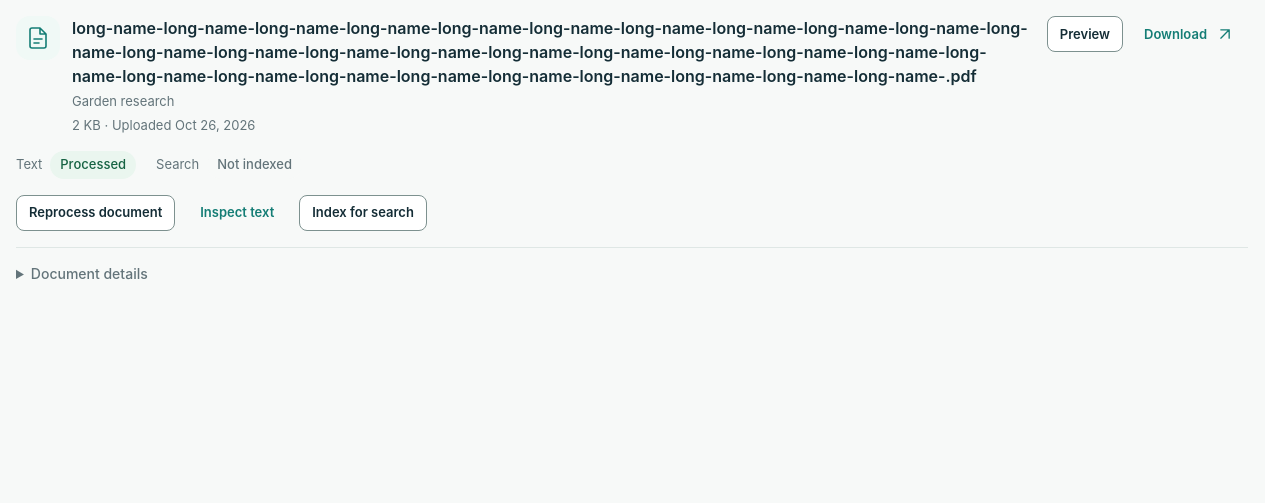
Test: retains full names and hides technical metadata behind a native disclosure
Step 1. Click the heading "Document details" → [89, 273], box [31,264,148,282]
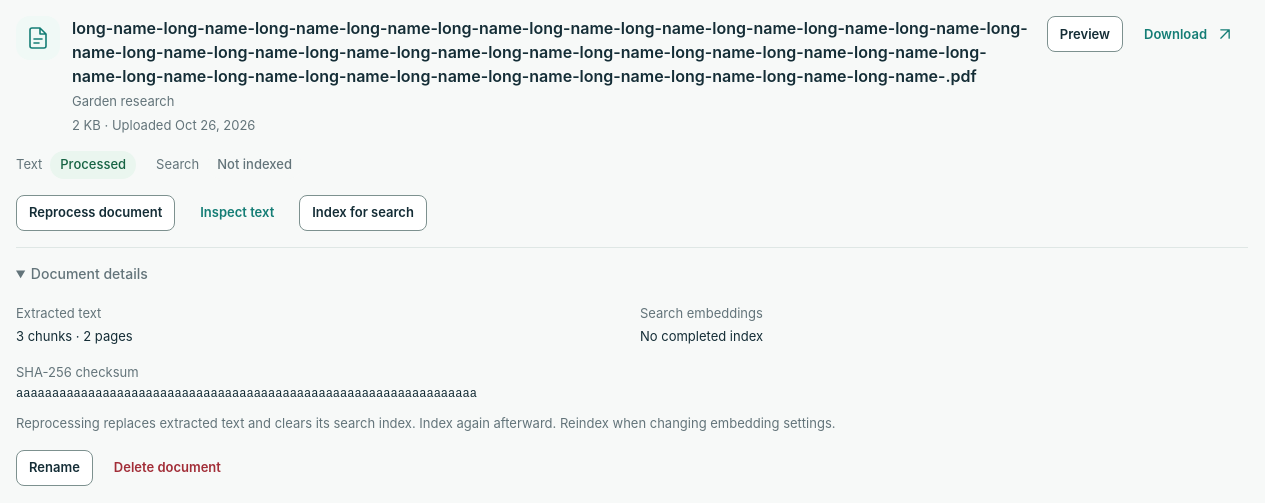
expect the text "3 chunks · 2 pages" is shown: met, box [16,328,133,344]
